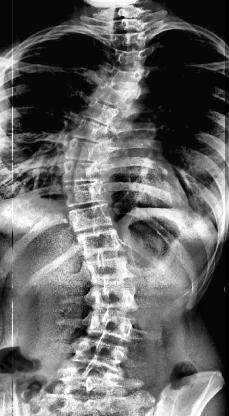Vertebrae: (66, 339, 130, 367), (90, 285, 142, 311), (85, 315, 139, 339), (84, 256, 134, 280), (74, 230, 124, 254), (68, 205, 118, 229), (64, 182, 114, 206), (61, 158, 109, 182), (66, 140, 112, 160), (82, 100, 120, 124), (94, 82, 130, 107), (73, 119, 113, 141), (116, 46, 150, 70), (106, 64, 143, 86), (116, 30, 146, 50), (112, 18, 144, 32)
